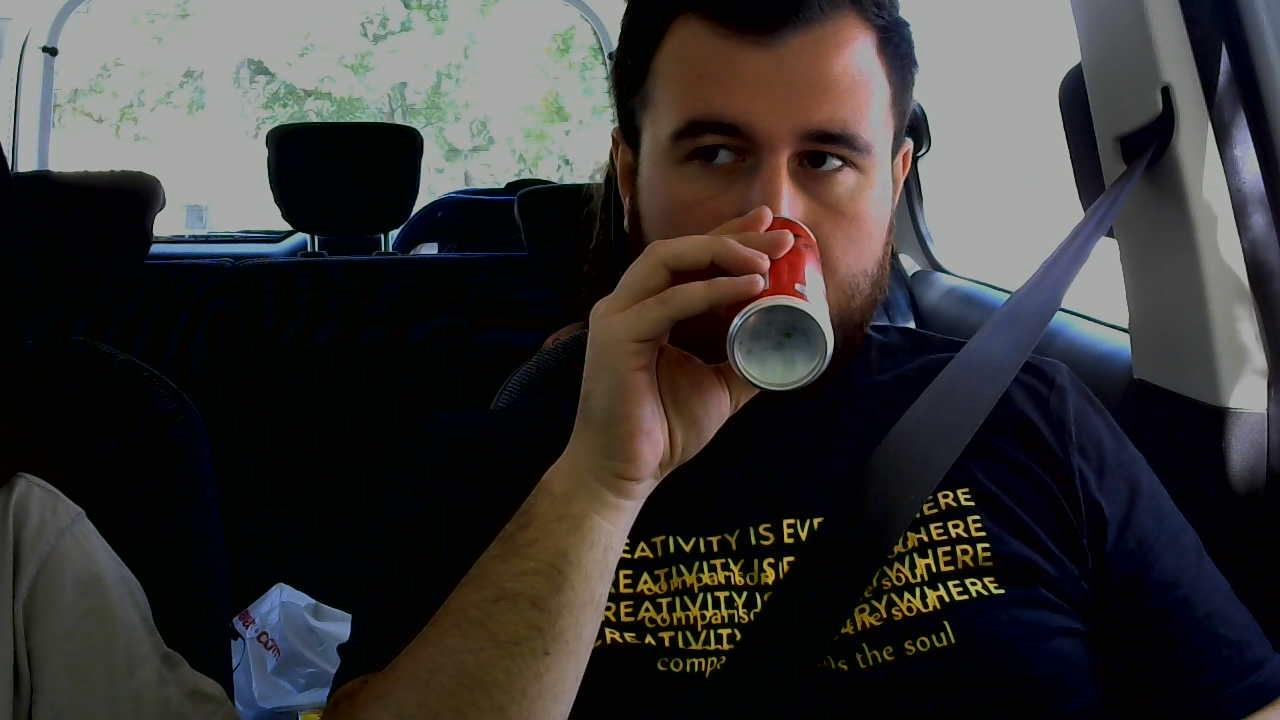Drinking: (611, 0, 910, 391)
